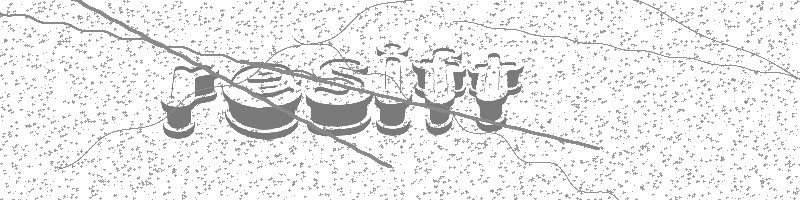e: (221, 60, 301, 144)
i: (373, 41, 414, 136)
r: (159, 60, 220, 140)
s: (303, 57, 373, 137)
t: (411, 46, 466, 137), (466, 51, 525, 135)
